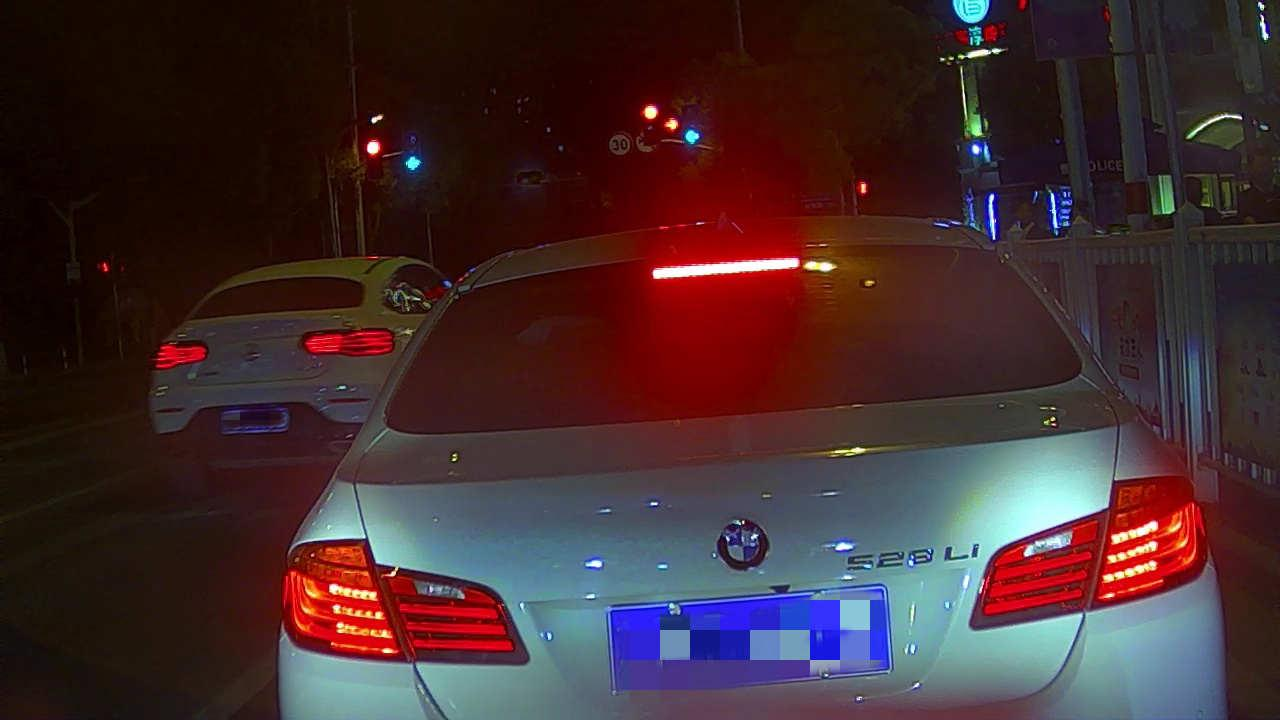traffic_light: (402, 150, 425, 174), (363, 135, 384, 161), (682, 124, 703, 148), (660, 114, 682, 136), (641, 100, 661, 124)
